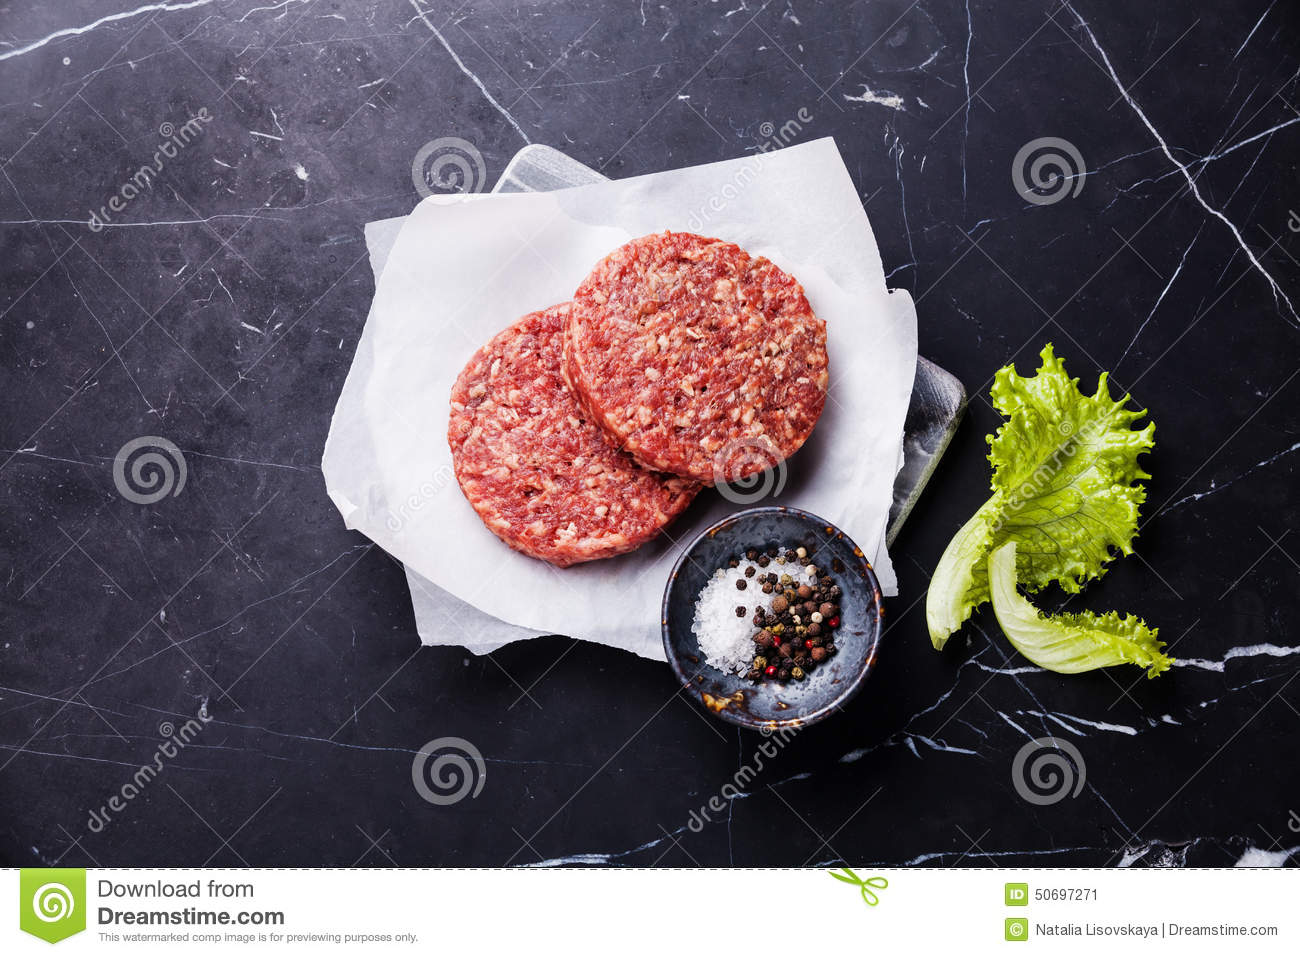ground_beef: (438, 231, 788, 550)
